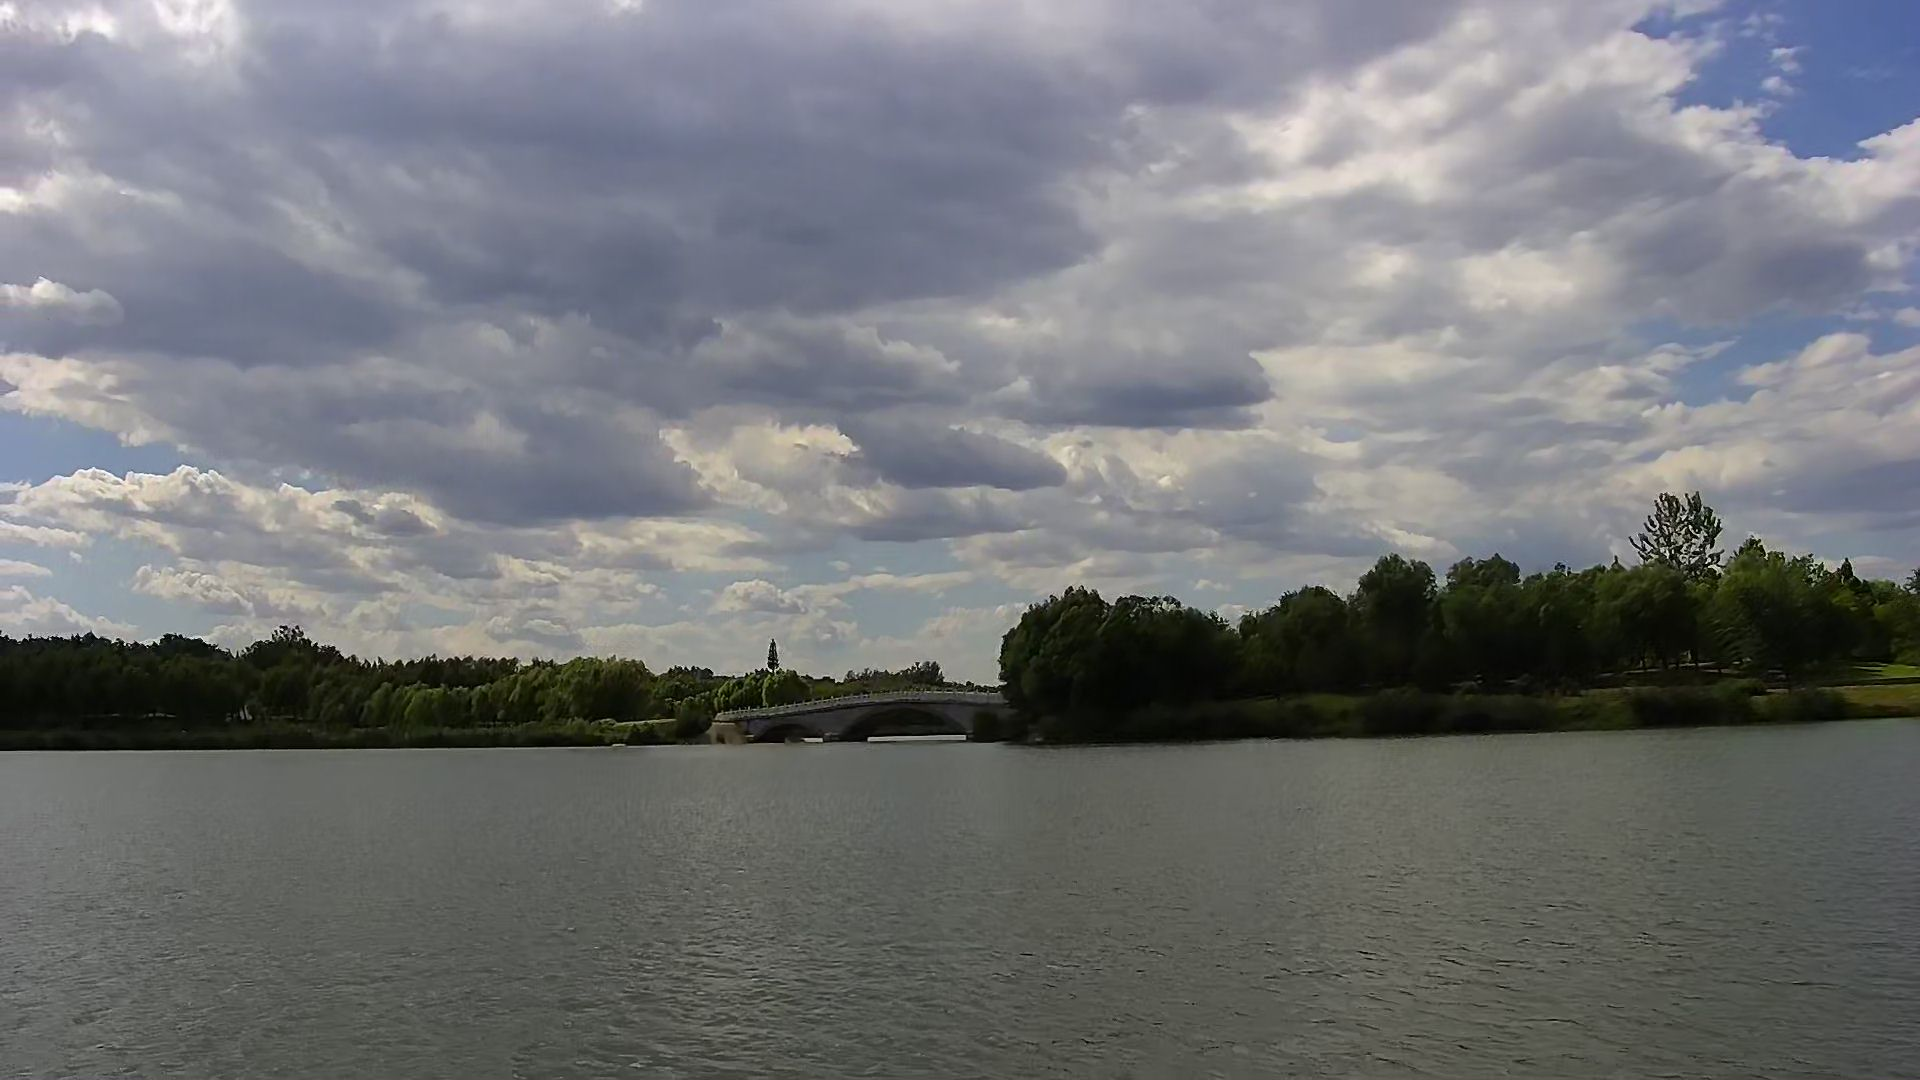bridge: (741, 683, 1007, 746)
